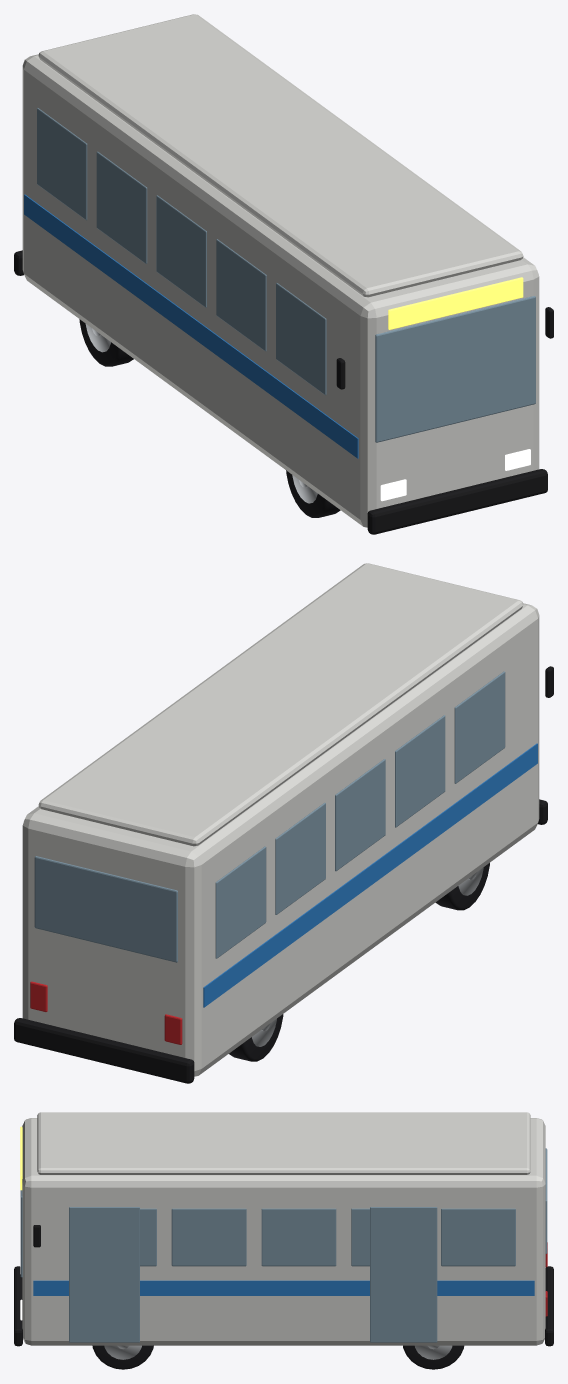
The model's file is bus.glb.
3 renders of one model, top to bottom at view 1: azimuth 30°, elevation 25°; view 2: azimuth 150°, elevation 25°; view 3: azimuth 270°, elevation 25°, orthographic. The views are drawn at different scales.
Parts seen in each view (by area): view 1: busBody, wheelRR, wheelFR; view 2: busBody, wheelRR, wheelFR; view 3: busBody, wheelFL, wheelRL.
Boxes of the visible parts, box(x1,y1,x2,y2) form: busBody: box(14, 14, 553, 534); wheelRR: box(79, 319, 133, 366); wheelFR: box(286, 470, 340, 517); busBody: box(14, 563, 553, 1083); wheelRR: box(229, 1014, 283, 1061); wheelFR: box(435, 863, 489, 910); busBody: box(14, 1112, 553, 1346); wheelFL: box(92, 1345, 153, 1369); wheelRL: box(403, 1345, 464, 1369).
Size of the model in its own units: 2.48 by 2.95 by 7.22.
